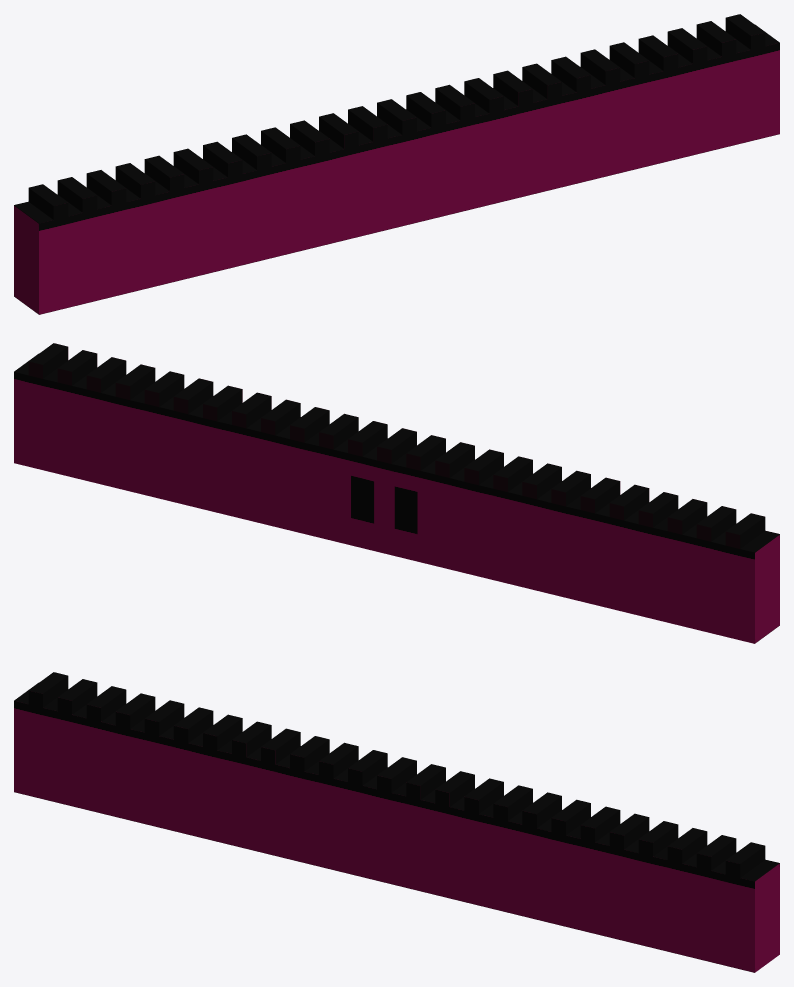
Rendered from boss2.obj.
The picture shows the model from 3 angles, top to bottom: view 1: azimuth 30°, elevation 25°; view 2: azimuth 150°, elevation 25°; view 3: azimuth 330°, elevation 25°; orthographic projection.
Parts seen in each view (by area): view 1: Cube; view 2: Cube; view 3: Cube.
Part boxes in pixels (x1,y1,x2,y2): Cube: [14, 14, 779, 314]; Cube: [14, 343, 779, 643]; Cube: [14, 672, 779, 972].
Bounding box in the file's own units: 34 × 4.62 × 2.
1 material, 1 textured.
